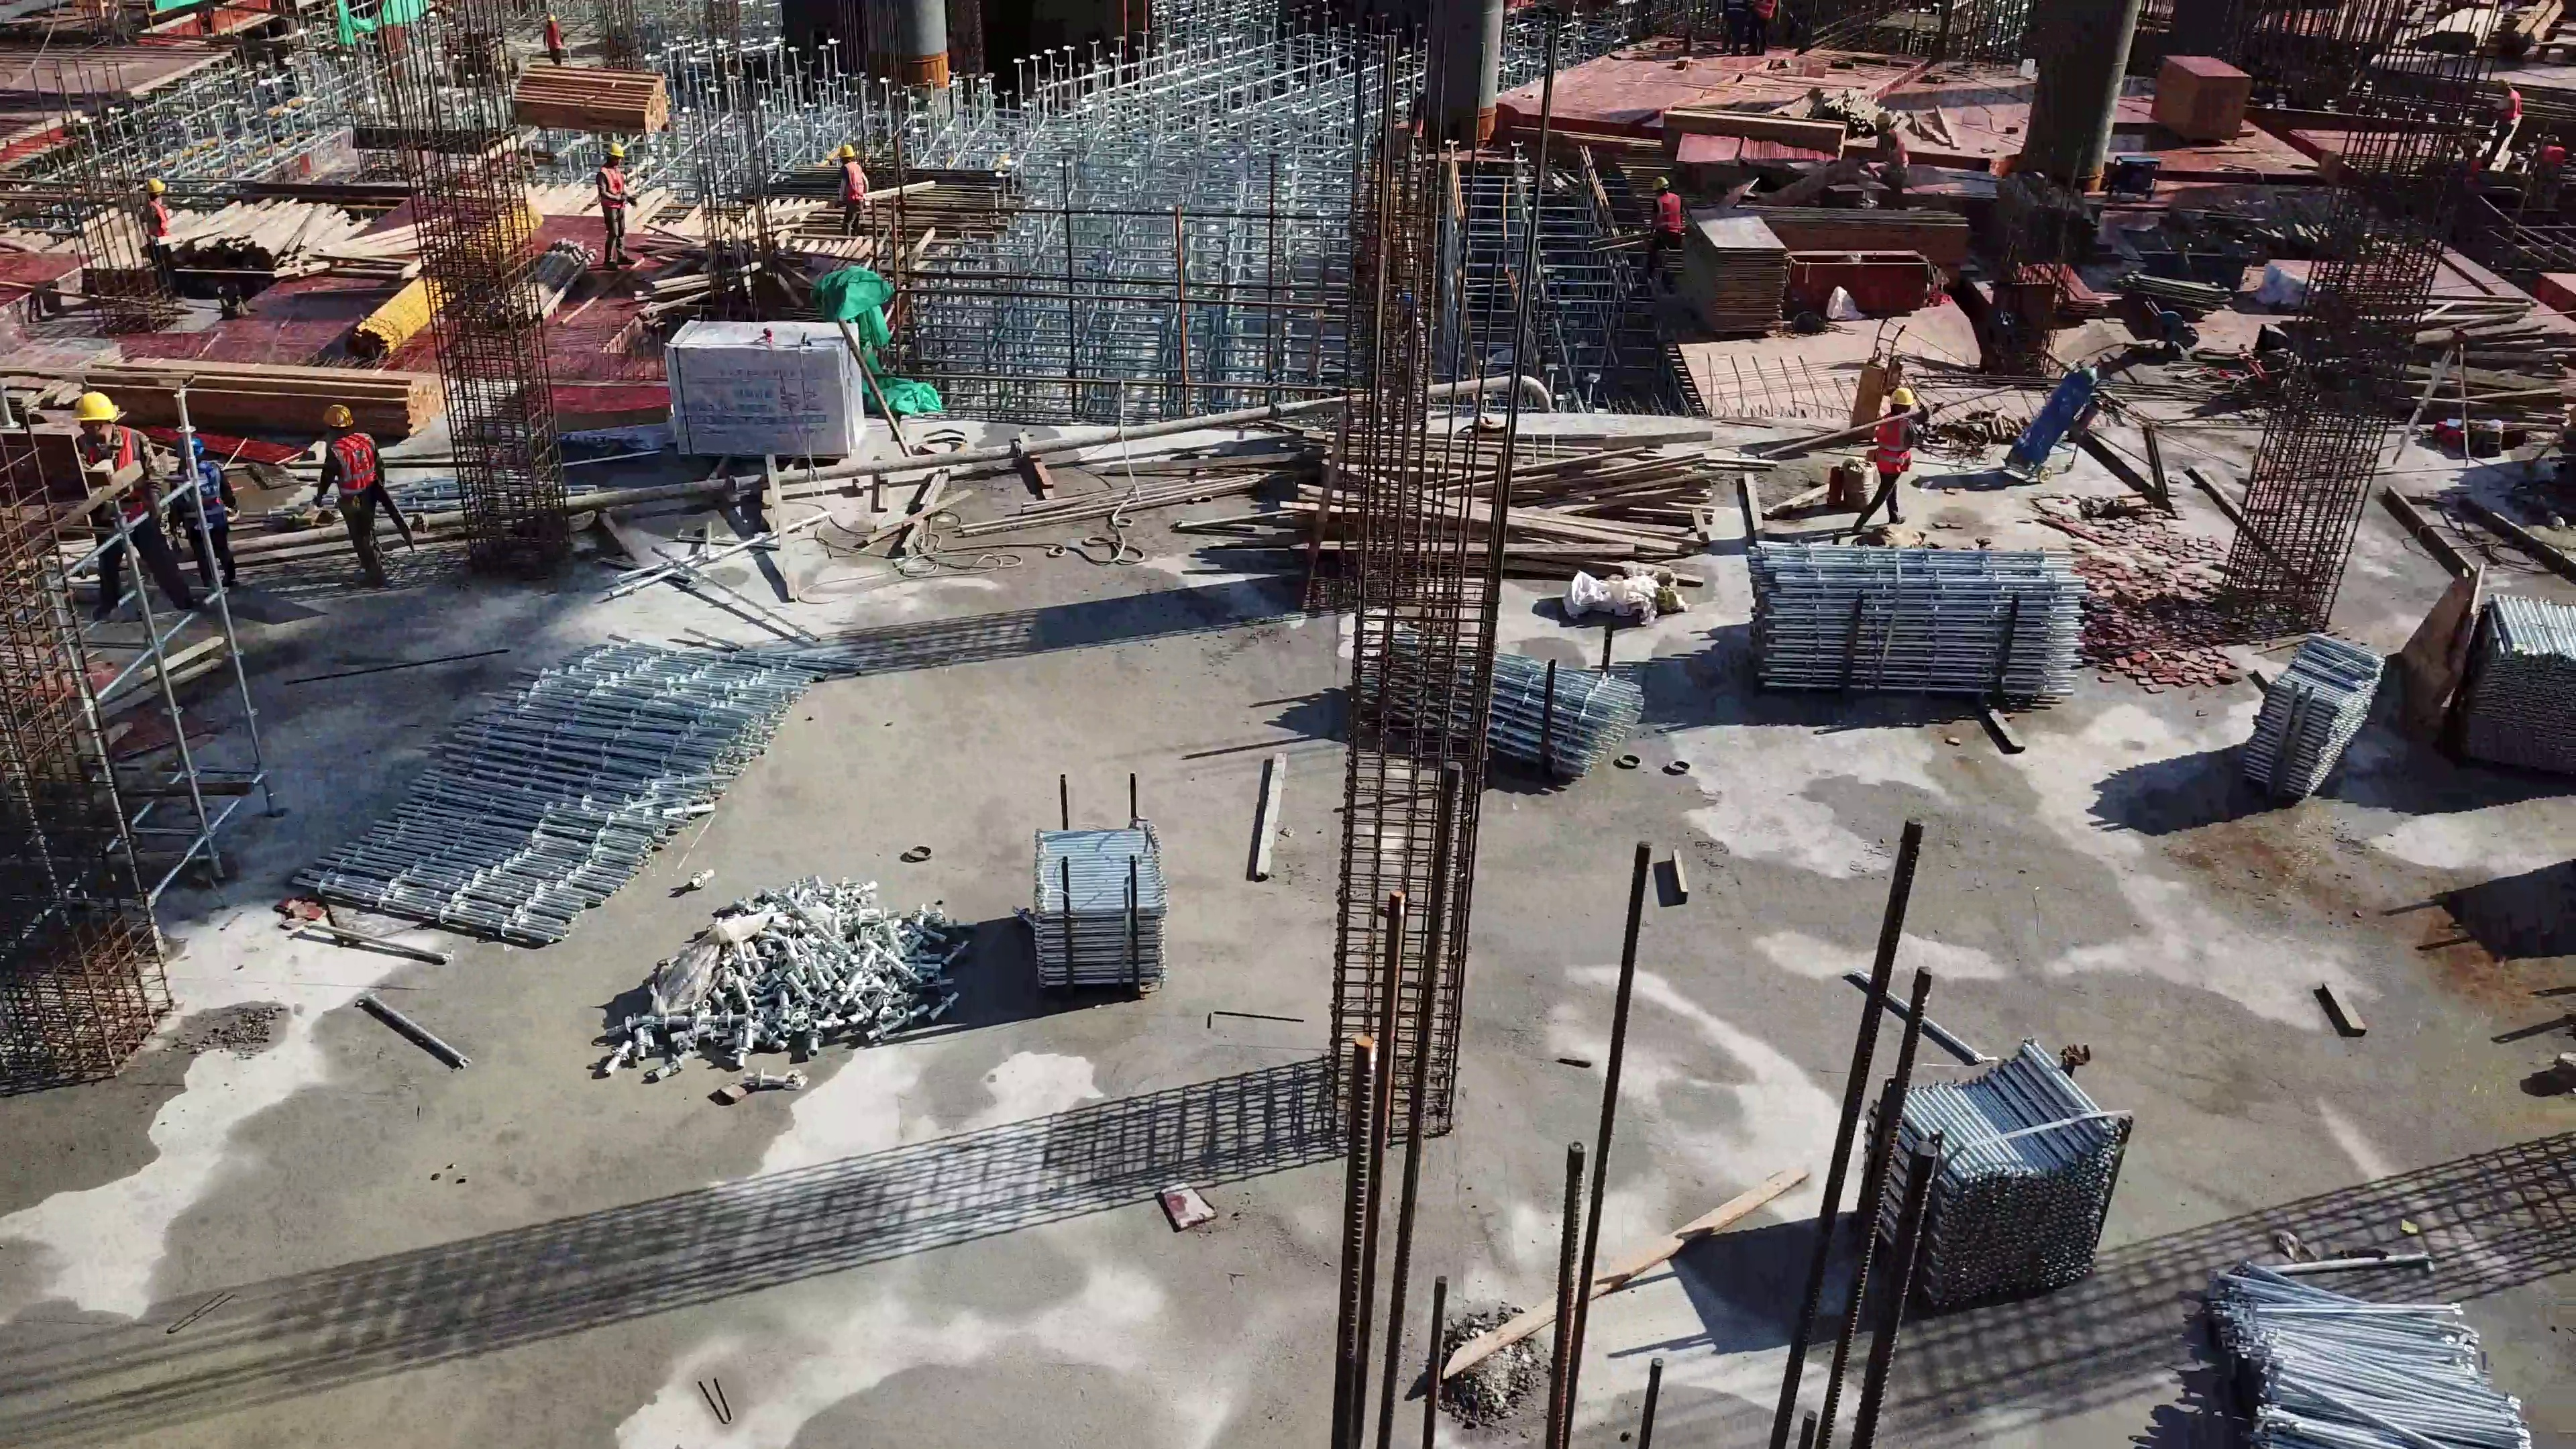board: (1688, 211, 1784, 337), (2157, 55, 2247, 146), (502, 388, 663, 434)
cutter: (1798, 161, 1883, 206), (20, 405, 117, 427), (2153, 317, 2192, 354)
ebox: (2316, 153, 2337, 195)
helmet: (73, 390, 118, 428), (323, 406, 354, 427), (174, 437, 200, 458), (1890, 386, 1914, 405), (148, 174, 167, 195), (608, 139, 625, 158), (1876, 111, 1893, 128), (1653, 174, 1664, 193), (838, 142, 851, 155), (547, 13, 555, 25)
hopper: (2126, 229, 2242, 280)
person: (70, 392, 204, 619), (312, 402, 411, 578), (162, 437, 235, 594), (1853, 384, 1913, 533), (597, 143, 639, 266), (1391, 292, 1430, 425), (140, 175, 176, 296), (1870, 111, 1908, 212), (1651, 177, 1683, 276), (837, 142, 869, 234), (2486, 77, 2518, 168), (2534, 135, 2563, 192), (1749, 3, 1774, 55), (541, 11, 565, 64), (1725, 1, 1743, 52)
scaffold: (284, 628, 835, 937), (1855, 1049, 2118, 1304), (1749, 528, 2086, 724), (2210, 1263, 2492, 1449), (1364, 632, 1626, 802), (1030, 824, 1174, 977), (2251, 631, 2359, 803), (2472, 590, 2576, 753)
vest: (84, 429, 135, 513), (177, 466, 222, 531), (329, 435, 374, 494), (1876, 413, 1908, 474), (604, 165, 626, 209), (1882, 129, 1908, 166), (1658, 194, 1681, 232), (845, 163, 867, 201), (147, 199, 166, 238), (2504, 89, 2518, 120), (546, 25, 558, 47), (1757, 4, 1774, 17), (1728, 1, 1743, 12)
wood: (101, 359, 437, 434), (1743, 209, 1972, 266), (1666, 107, 1842, 164), (513, 65, 665, 129)
